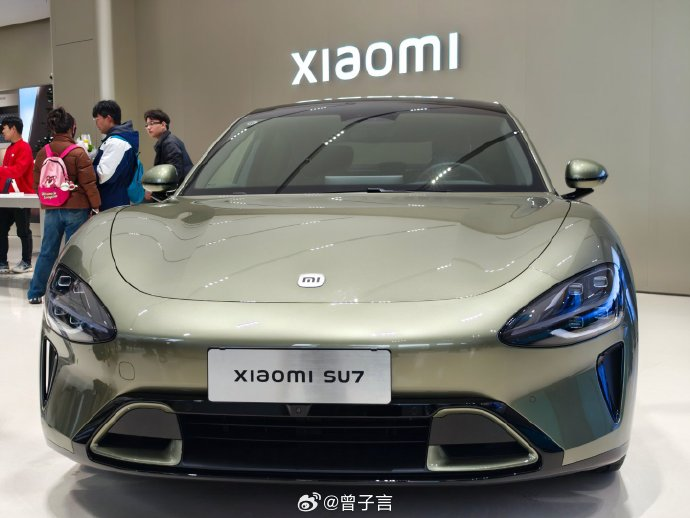su7: (50, 99, 641, 494)
